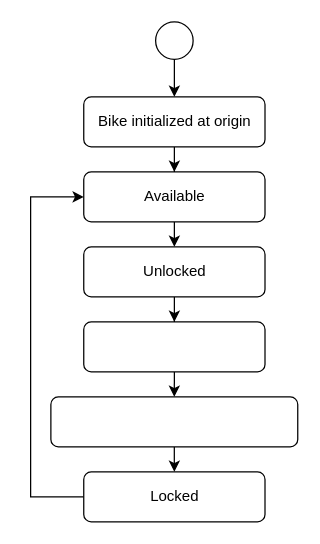
The diagram is 320 pixels wide and 544 high, and some of its shapes have lost their labels. Here are the shapes that lost their labels. From the top down, the centre of each, then its label:
(173,346): Unavailable
(174,421): Transported to other location
